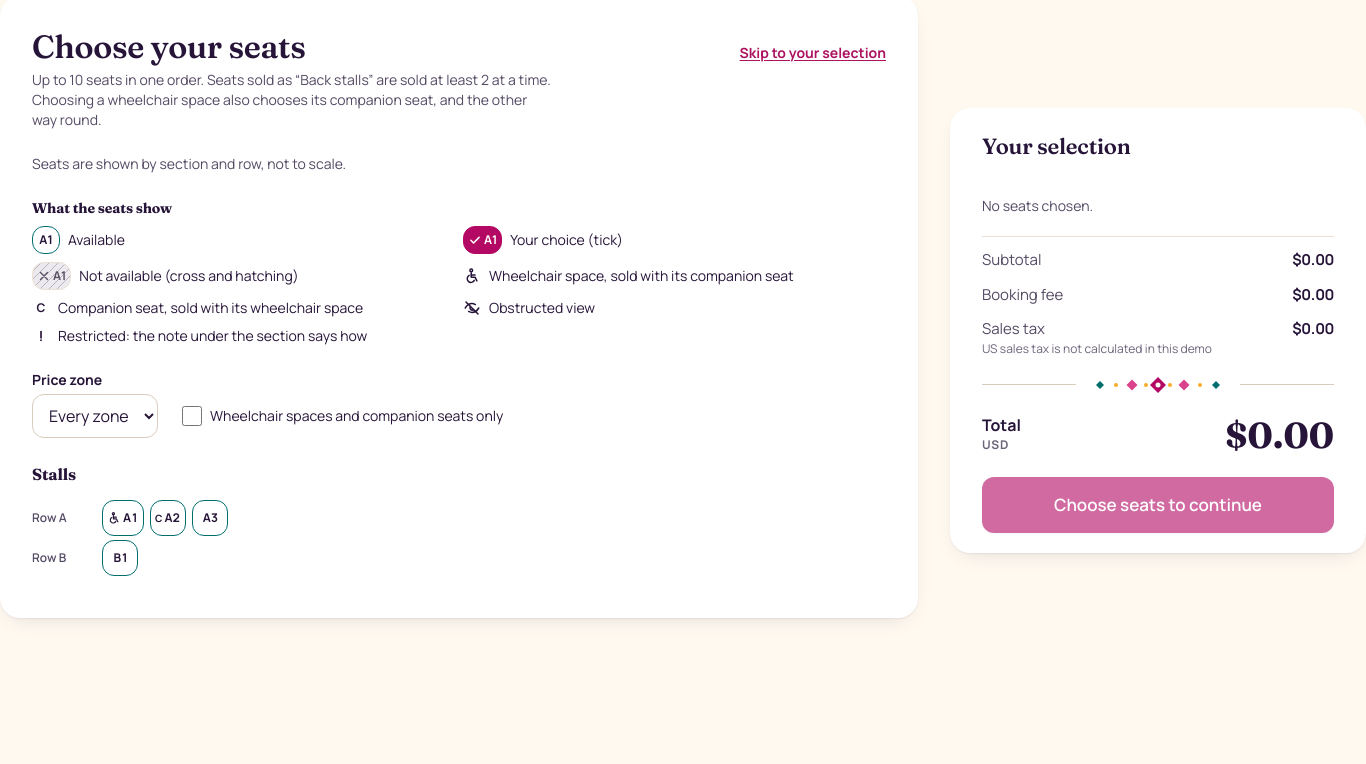
choosing seats › will not reserve fewer seats of a tier than it sells at a time, companions counted
The image size is (1366, 764).
Expected: the text "Seats sold as “Back stalls” are sold at least 2 at a time." is shown, [32, 70, 551, 89]
Click the button "B1".
click(120, 558)  # box [102, 540, 138, 576]
(page scrolled)
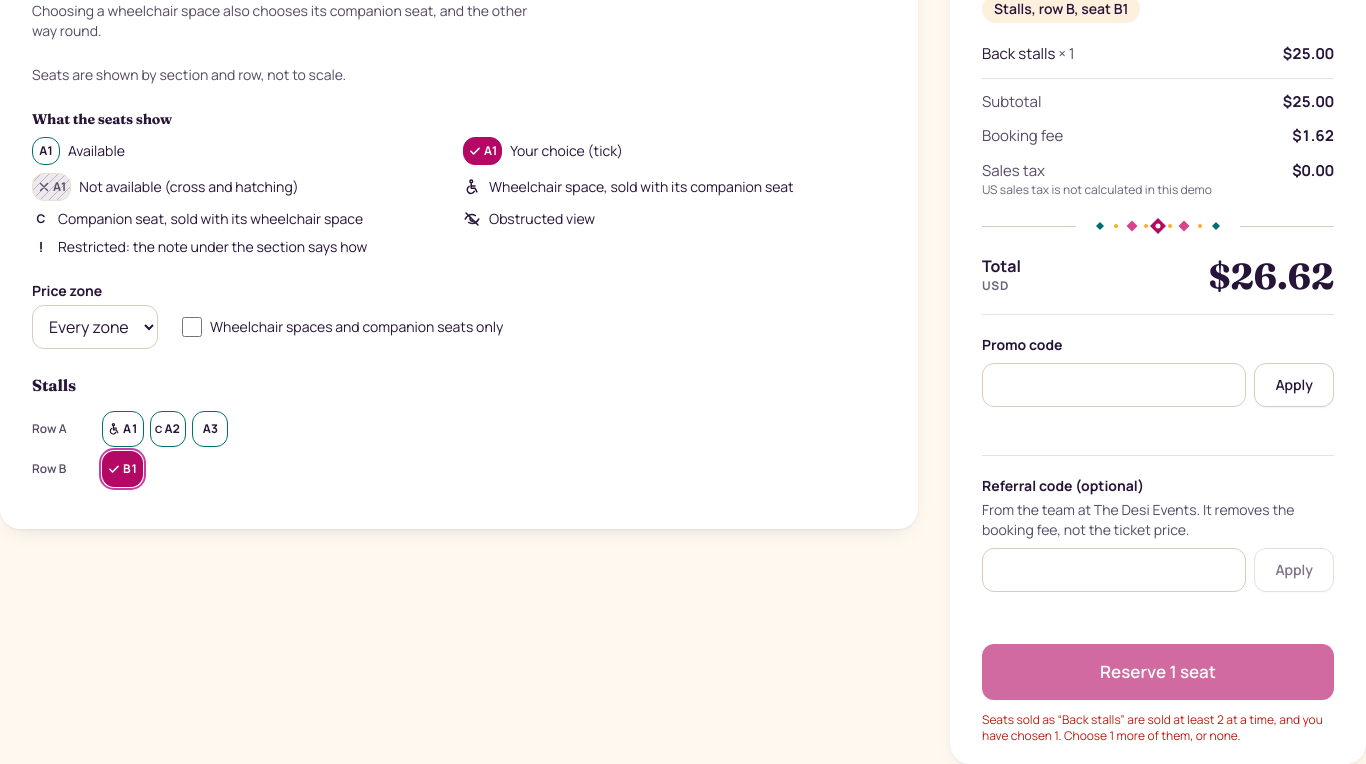
Expected: the button "Reserve 1 seat" is disabled, [982, 644, 1334, 700]
Now the list item "Seats sold as “Back stalls” are sold at least 2 at a time, and you have chosen 1. Choose 1 more of them, or none." is shown, box [982, 712, 1334, 744]
